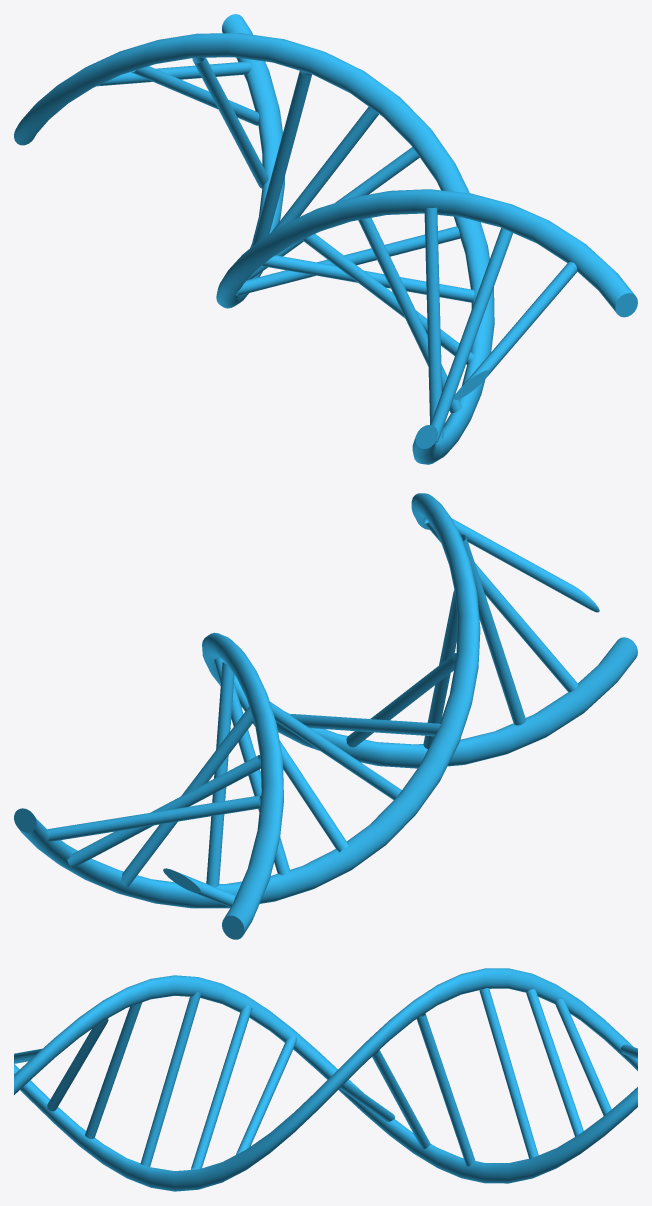
File: DNA_MIDDLE.fbx
The picture shows the model from 3 angles, top to bottom: view 1: azimuth 30°, elevation 25°; view 2: azimuth 150°, elevation 25°; view 3: azimuth 270°, elevation 25°; orthographic projection. The views are drawn at different scales.
Visible parts, largest first — view 1: DNA2; view 2: DNA2; view 3: DNA2.
Boxes of the visible parts, <box> form: DNA2: <box>14,14,637,464</box>; DNA2: <box>14,493,637,939</box>; DNA2: <box>14,968,637,1191</box>.
Bounding box in the file's own units: 10.9 × 10.89 × 30.4.
